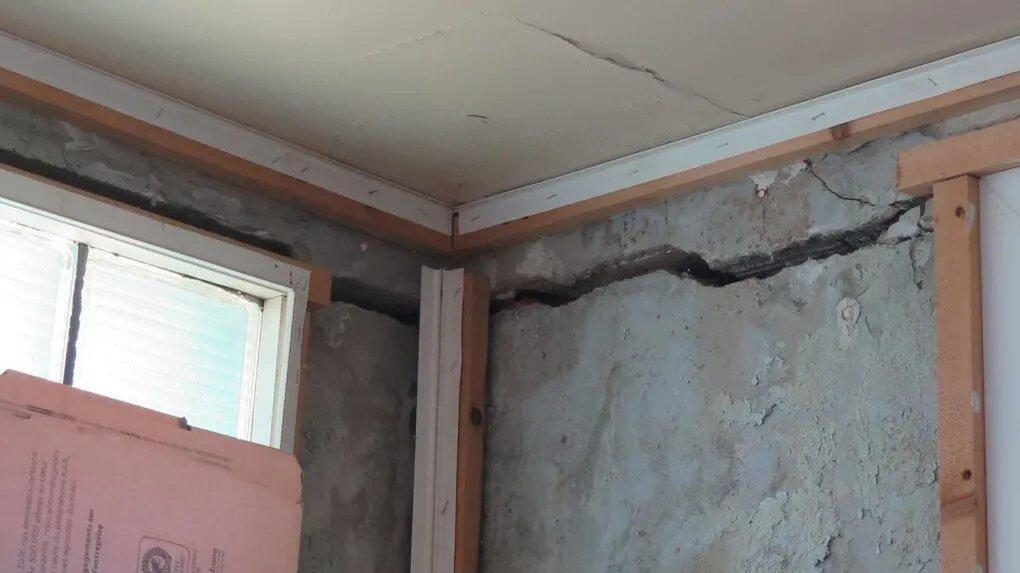crack: (521, 22, 751, 118), (799, 158, 876, 208), (917, 202, 935, 234), (878, 235, 910, 246)
damage: (493, 200, 925, 309), (0, 148, 298, 258), (333, 276, 419, 325)
